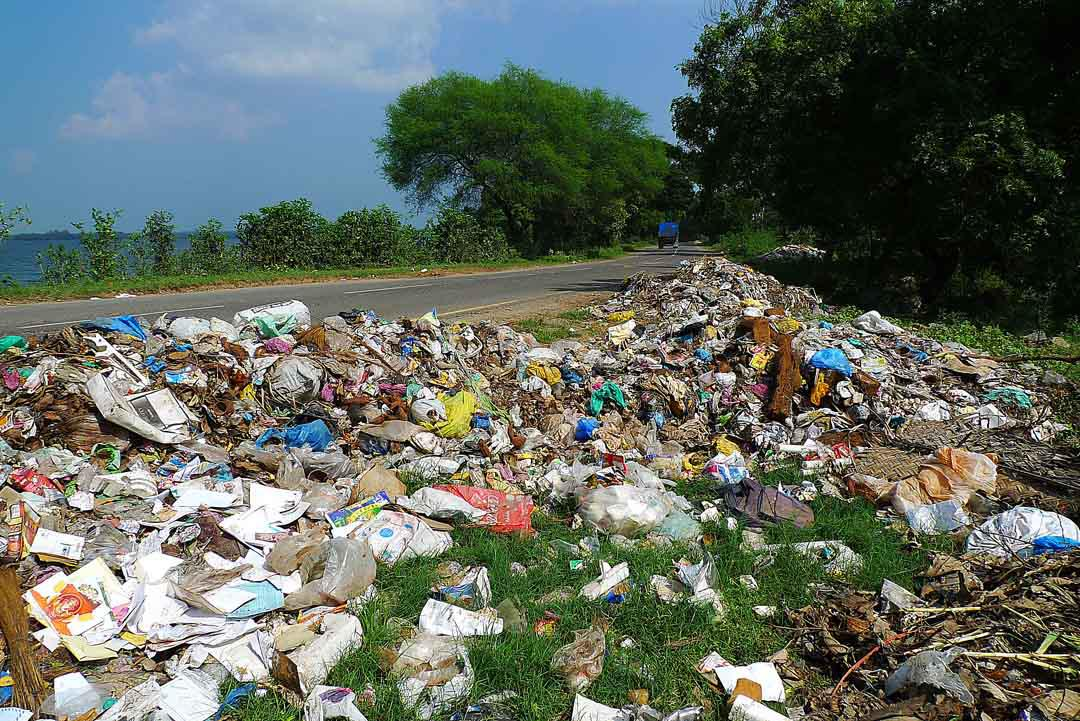Garbage: (177, 296, 359, 412), (371, 452, 516, 593), (34, 550, 195, 669), (281, 525, 418, 621), (547, 545, 741, 612), (364, 612, 498, 697), (119, 332, 257, 413), (572, 482, 703, 545), (482, 375, 568, 449), (266, 372, 334, 459), (449, 337, 515, 425), (367, 357, 439, 427), (572, 365, 626, 421), (819, 344, 871, 386)
